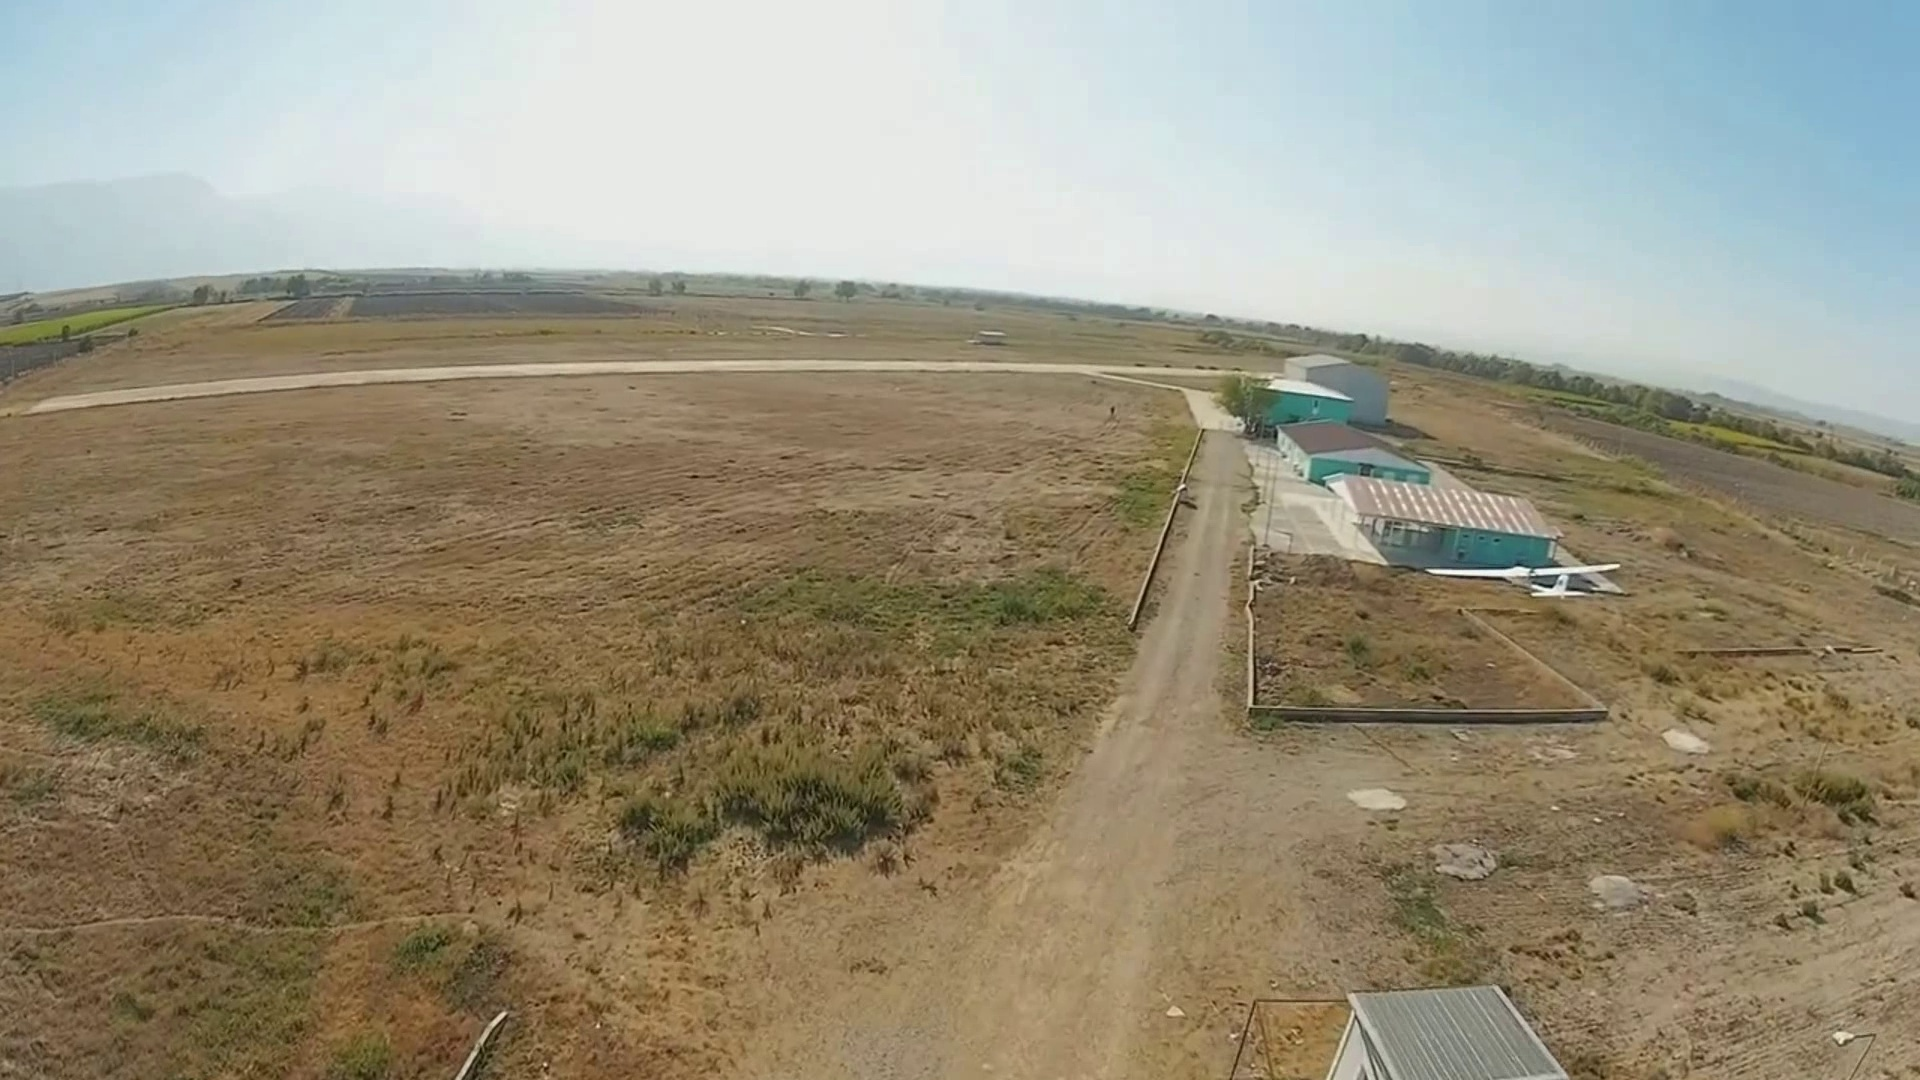airplane: (1230, 363, 1621, 596)
